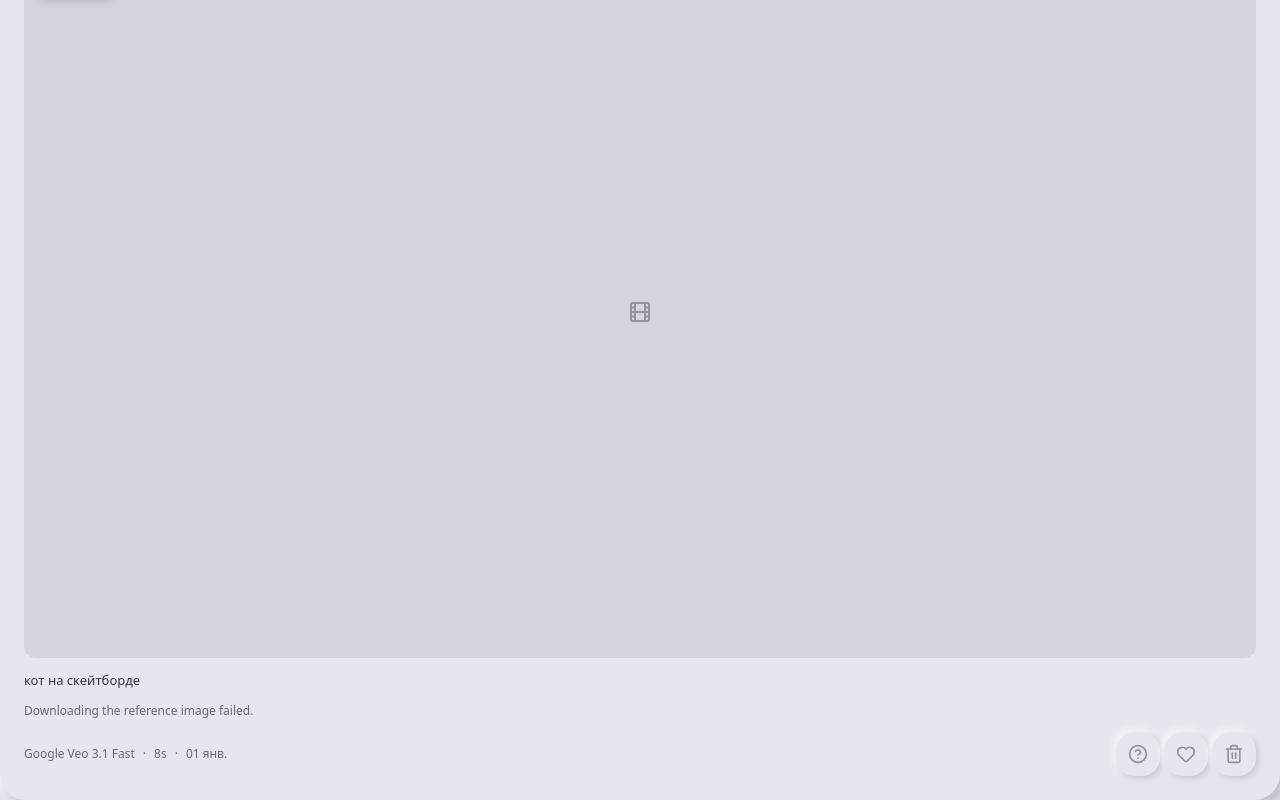
Test case: GenerationCard failure explanation › explains a reference image failure in the reader’s language, server words included
(page scrolled)
Click the button named "Почему произошла ошибка": (1138, 754) [1116,732,1160,776]
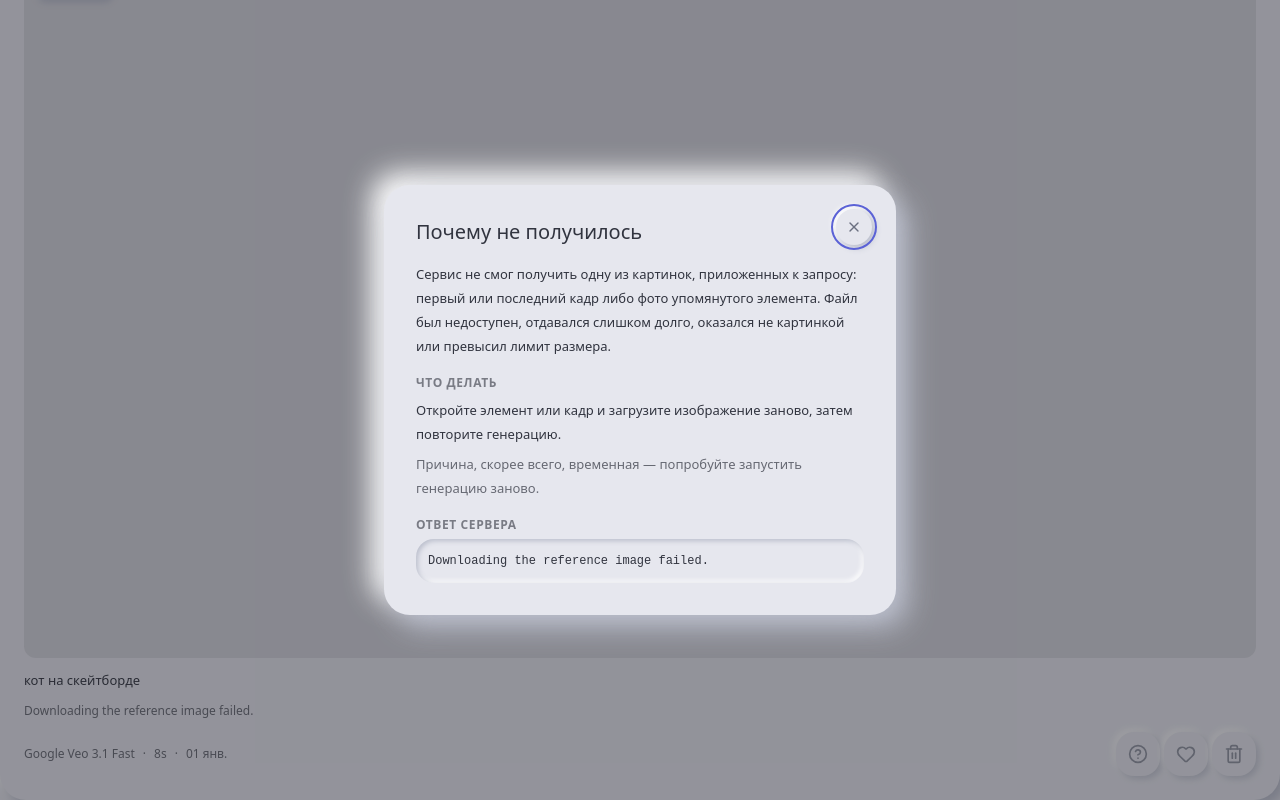
Check: the text "не смог получить одну из картинок" is shown, box [416,265,858,355]
Check: the text "загрузите изображение заново" is shown, box [416,401,853,443]
Check: the text "Downloading the reference image failed." is shown, box [428,554,709,568]
